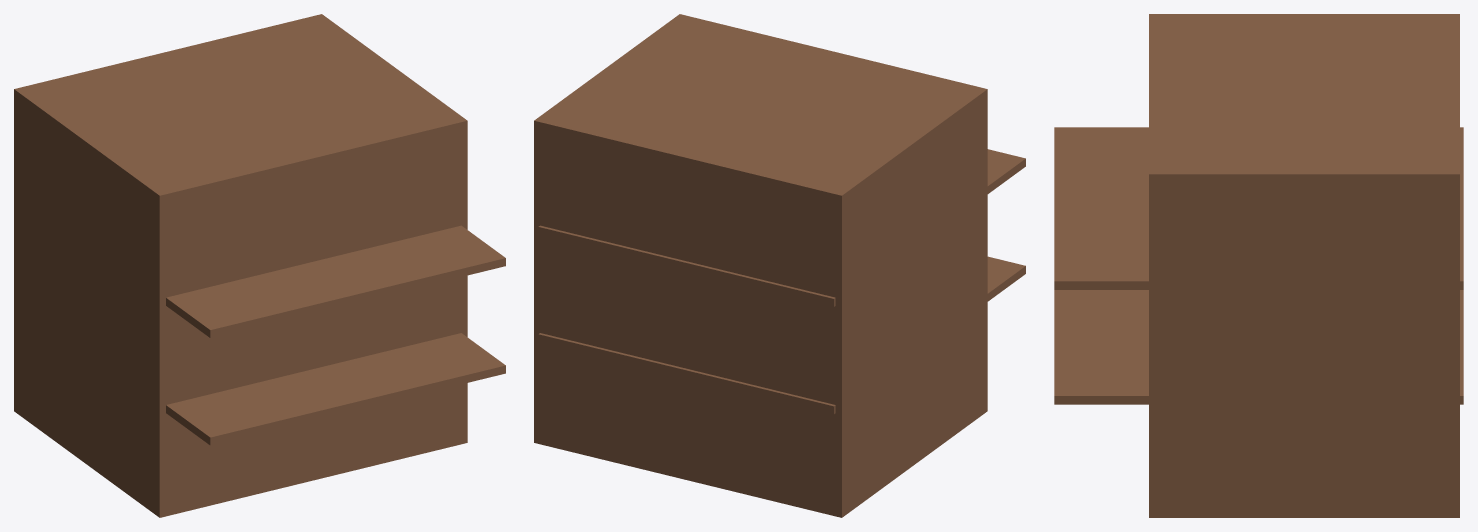
The model's file is FacadeKit_WoodPanel_LOD1.glb.
The picture shows the model from 3 angles, left to right: view 1: azimuth 30°, elevation 25°; view 2: azimuth 150°, elevation 25°; view 3: azimuth 270°, elevation 25°; orthographic projection. The views are drawn at different scales.
Visible parts, largest first — view 1: FacadeKit_WoodPanel_LOD1; view 2: FacadeKit_WoodPanel_LOD1; view 3: FacadeKit_WoodPanel_LOD1.
Part boxes in pixels (x1,y1,x2,y2): FacadeKit_WoodPanel_LOD1: [14, 14, 505, 517]; FacadeKit_WoodPanel_LOD1: [534, 14, 1025, 517]; FacadeKit_WoodPanel_LOD1: [1054, 14, 1463, 517].
Size of the model in its own units: 1 by 1 by 1.08.
